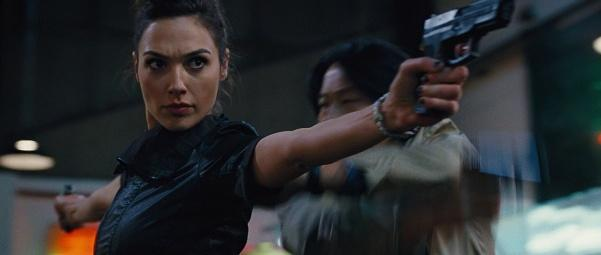Gun: (415, 0, 517, 116)
